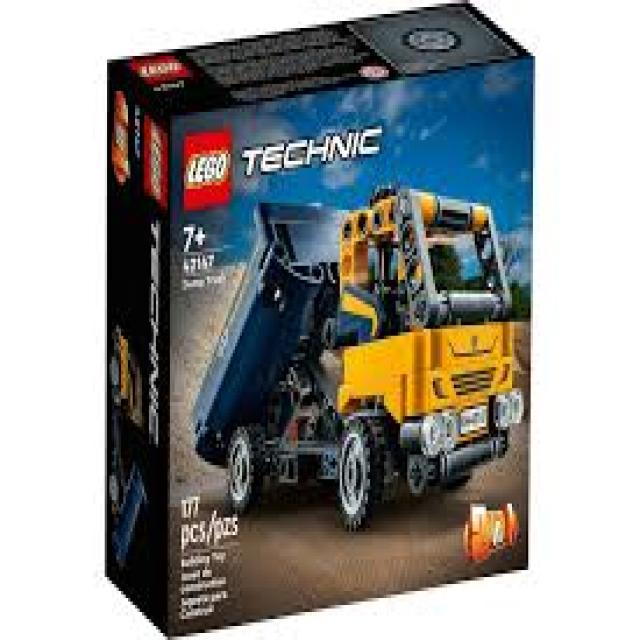dump_truck: (196, 189, 523, 533)
